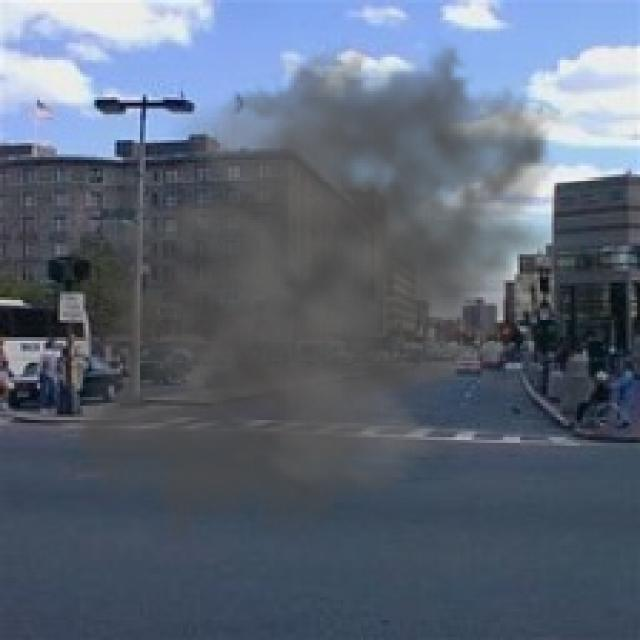smoke: (34, 9, 592, 577)
